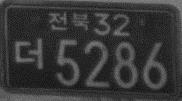2: (82, 38, 110, 88), (113, 12, 131, 38)
3: (93, 10, 111, 35)
5: (55, 38, 81, 85)
6: (141, 41, 167, 91)
8: (113, 40, 138, 89)
더: (14, 35, 43, 71)
전북_O: (47, 10, 90, 31)
